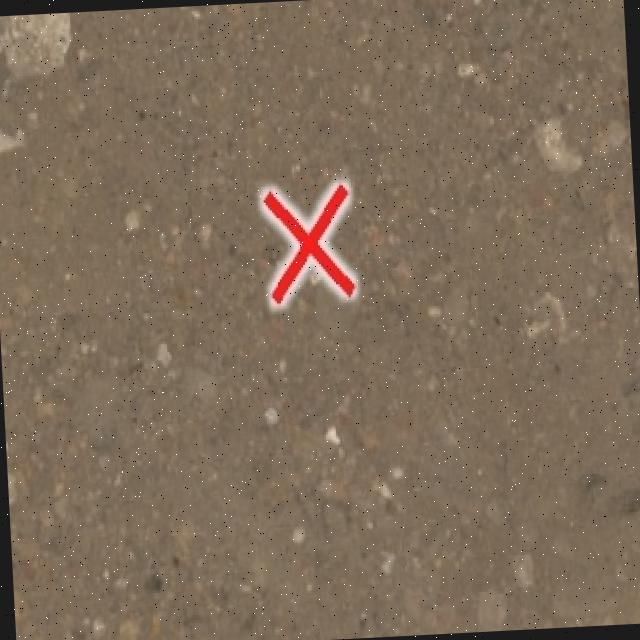x_marker: (262, 184, 354, 302)
